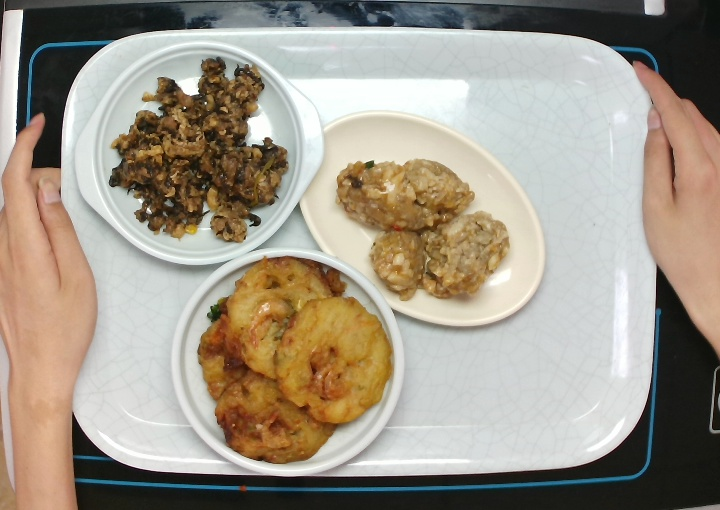JYsf-Shuang_Er_Pan: (69, 39, 328, 268)
JYsf-Tuo_Yuan_Wan: (292, 107, 548, 327)
JYsf-Xiao_Yuan_Pan: (170, 242, 409, 478)
